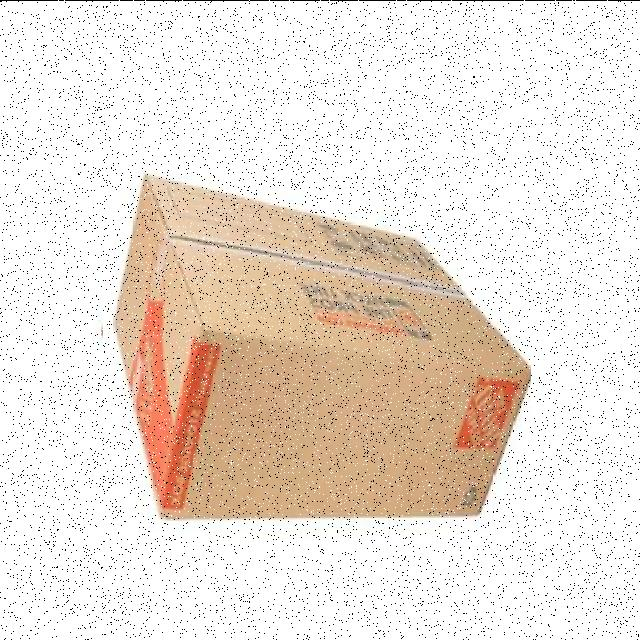normal: (103, 163, 531, 540)
